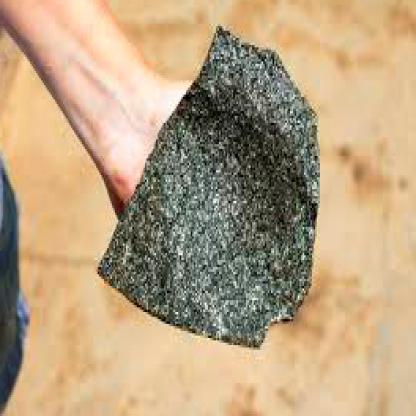Igneous_Diorite: (93, 24, 317, 350)
